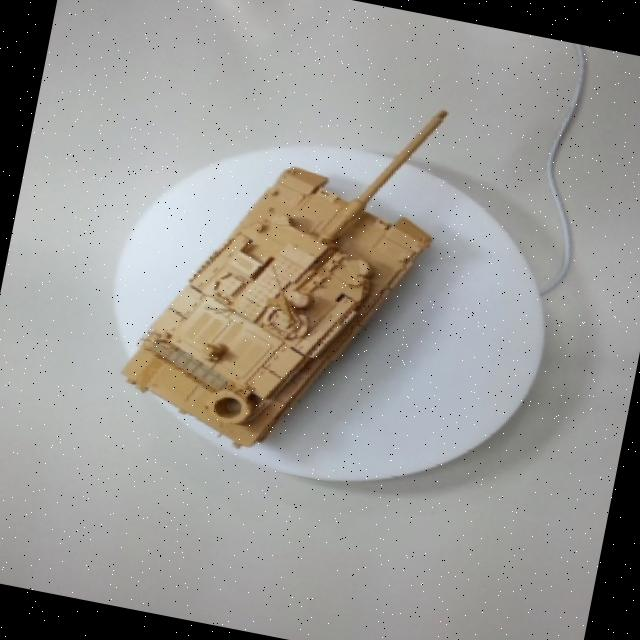korea tank: (91, 49, 482, 526)
